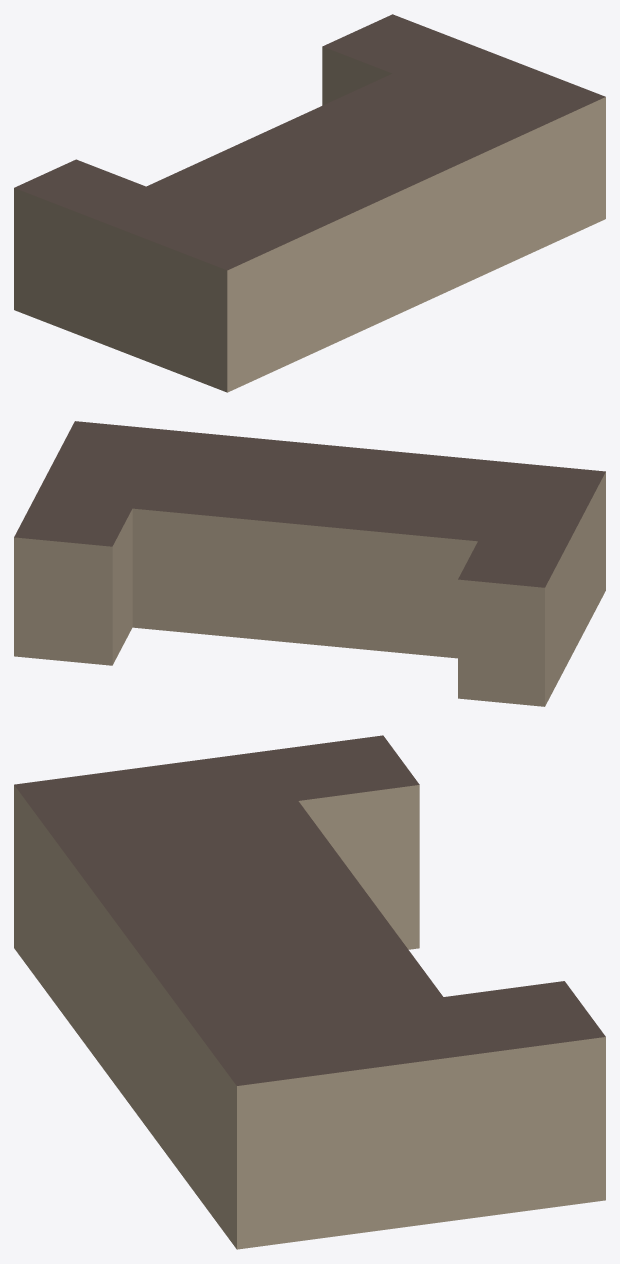
Rendered from tile_0_4.glb.
The picture shows the model from 3 angles, top to bottom: view 1: azimuth 30°, elevation 25°; view 2: azimuth 150°, elevation 25°; view 3: azimuth 270°, elevation 25°; orthographic projection. The views are drawn at different scales.
Parts seen in each view (by area): view 1: HP-w1200713025; view 2: HP-w1200713025; view 3: HP-w1200713025.
Boxes of the visible parts, bbox=[...] form: HP-w1200713025: bbox=[14, 14, 605, 392]; HP-w1200713025: bbox=[14, 421, 605, 706]; HP-w1200713025: bbox=[14, 735, 605, 1249].
Bounding box in the file's own units: 41.41 × 9 × 29.54.
